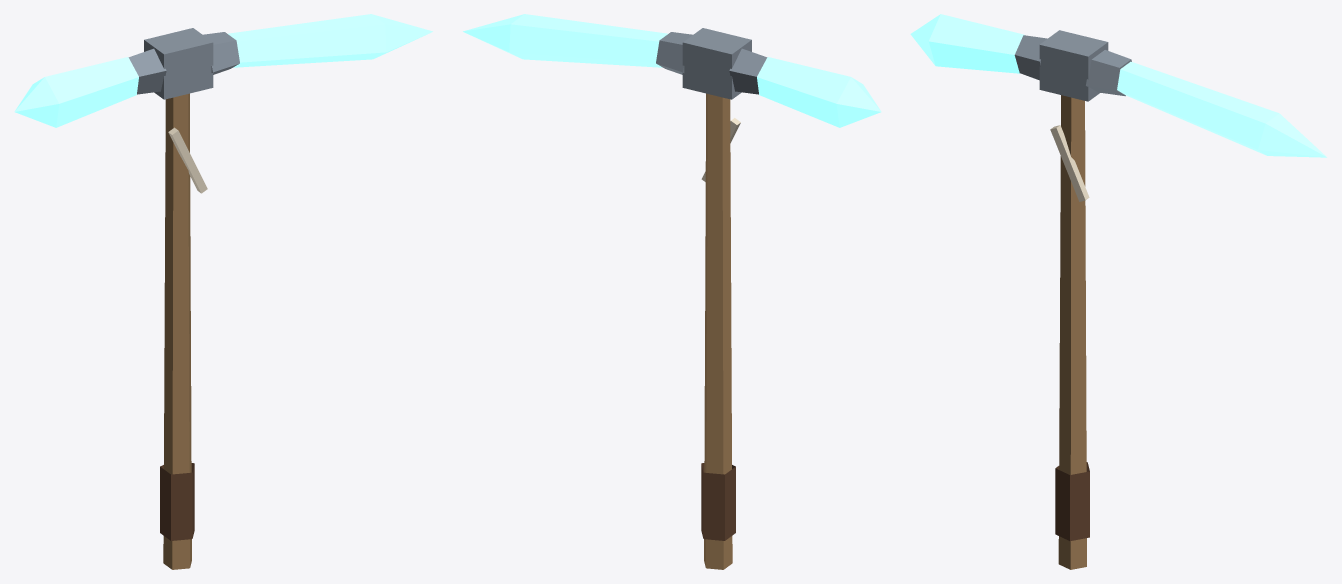
File: Wpn_Melee_CrystalPickaxe.fbx
The picture shows the model from 3 angles, left to right: view 1: azimuth 30°, elevation 25°; view 2: azimuth 150°, elevation 25°; view 3: azimuth 330°, elevation 25°; orthographic projection.
Visible parts, largest first — view 1: Wpn_Melee_CrystalPickaxe_Body, Wpn_Melee_CrystalPickaxe_Crystals; view 2: Wpn_Melee_CrystalPickaxe_Body, Wpn_Melee_CrystalPickaxe_Crystals; view 3: Wpn_Melee_CrystalPickaxe_Body, Wpn_Melee_CrystalPickaxe_Crystals.
Part boxes in pixels (<box>): Wpn_Melee_CrystalPickaxe_Body: <box>128,28,239,569</box>; Wpn_Melee_CrystalPickaxe_Crystals: <box>14,14,432,127</box>; Wpn_Melee_CrystalPickaxe_Body: <box>656,28,767,569</box>; Wpn_Melee_CrystalPickaxe_Crystals: <box>463,14,881,127</box>; Wpn_Melee_CrystalPickaxe_Body: <box>1014,30,1131,569</box>; Wpn_Melee_CrystalPickaxe_Crystals: <box>910,14,1326,157</box>.
Bounding box in the file's own units: 0.726 × 0.865 × 0.0799.
